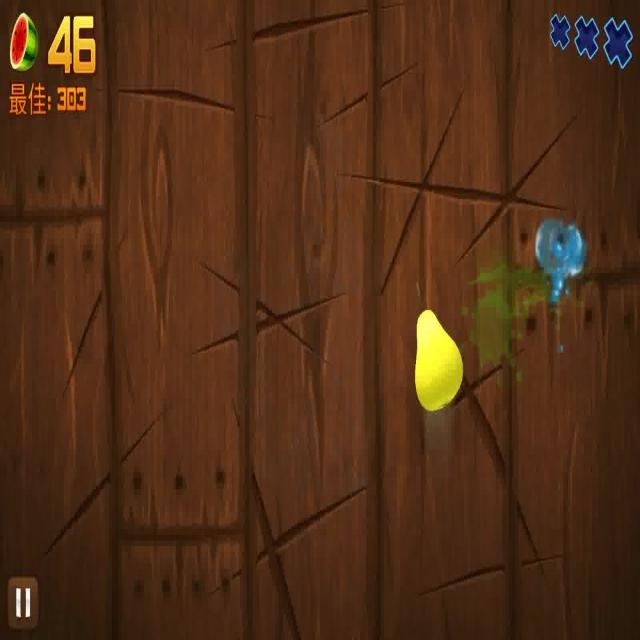fruit: (410, 308, 464, 407)
